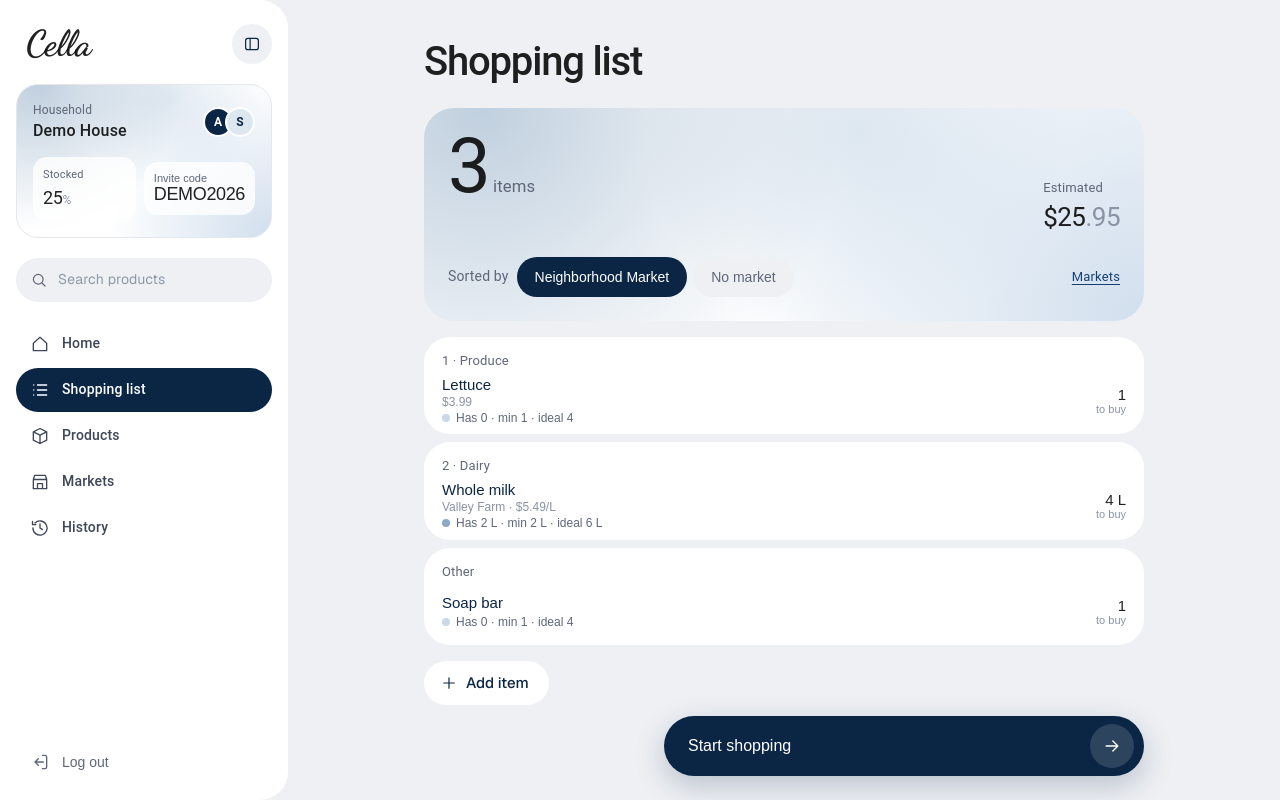
Test case: Shopping list in the store › can shop somewhere without a market, grouped by category
This screenshot has width=1280, height=800.
Step 1. Click the button "Start shopping" → (740, 746), box top-left (664, 716), bottom-right (1144, 776)
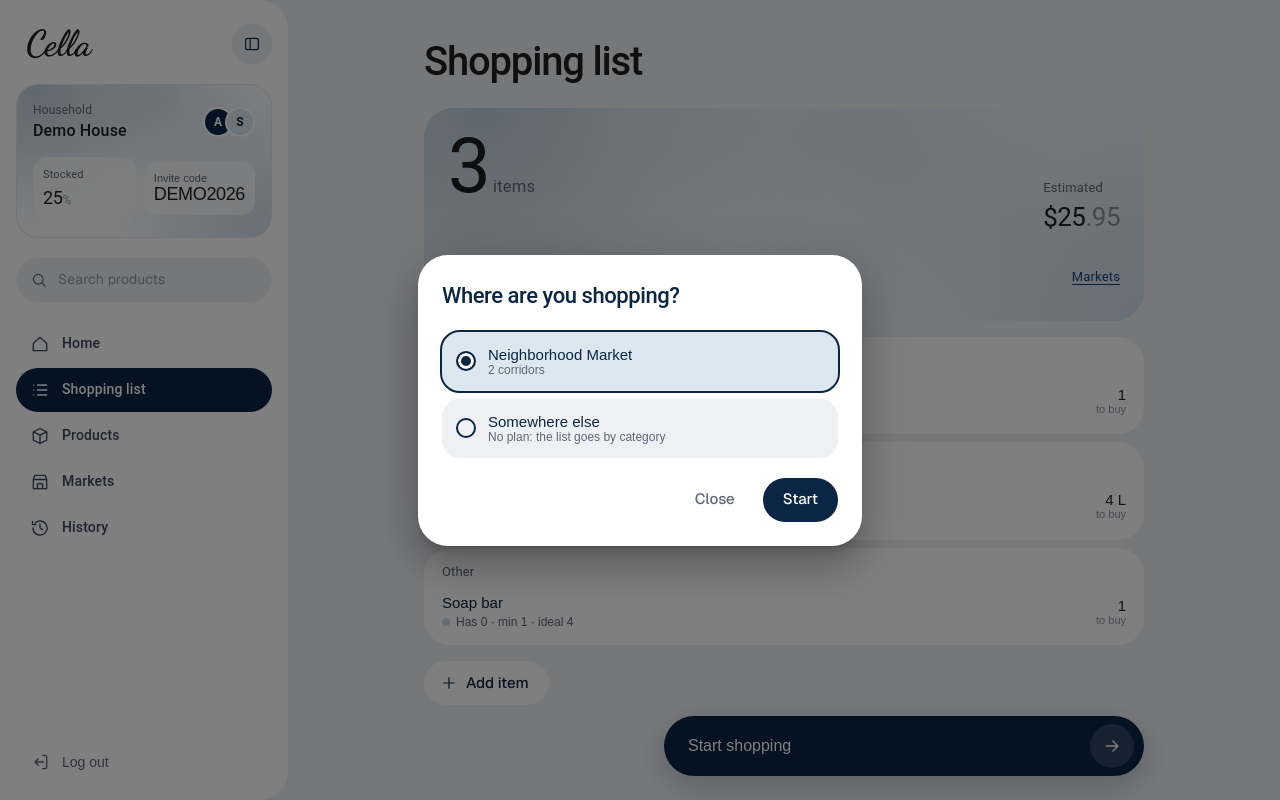
Step 2. Click the radio button labelled "Somewhere else No plan: the list goes by category" → (640, 428), box top-left (442, 398), bottom-right (838, 458)
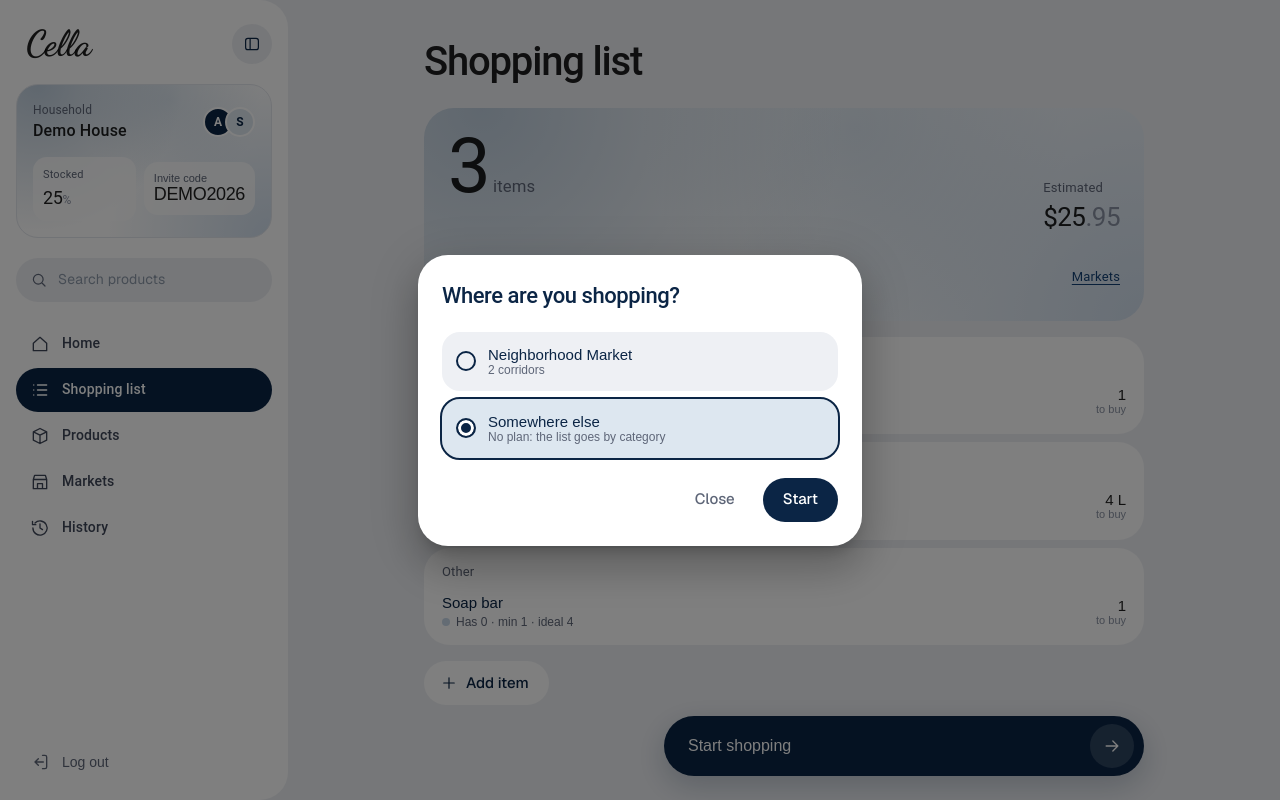
Step 3. Click the button "Start" → (800, 500), box top-left (763, 478), bottom-right (838, 522)
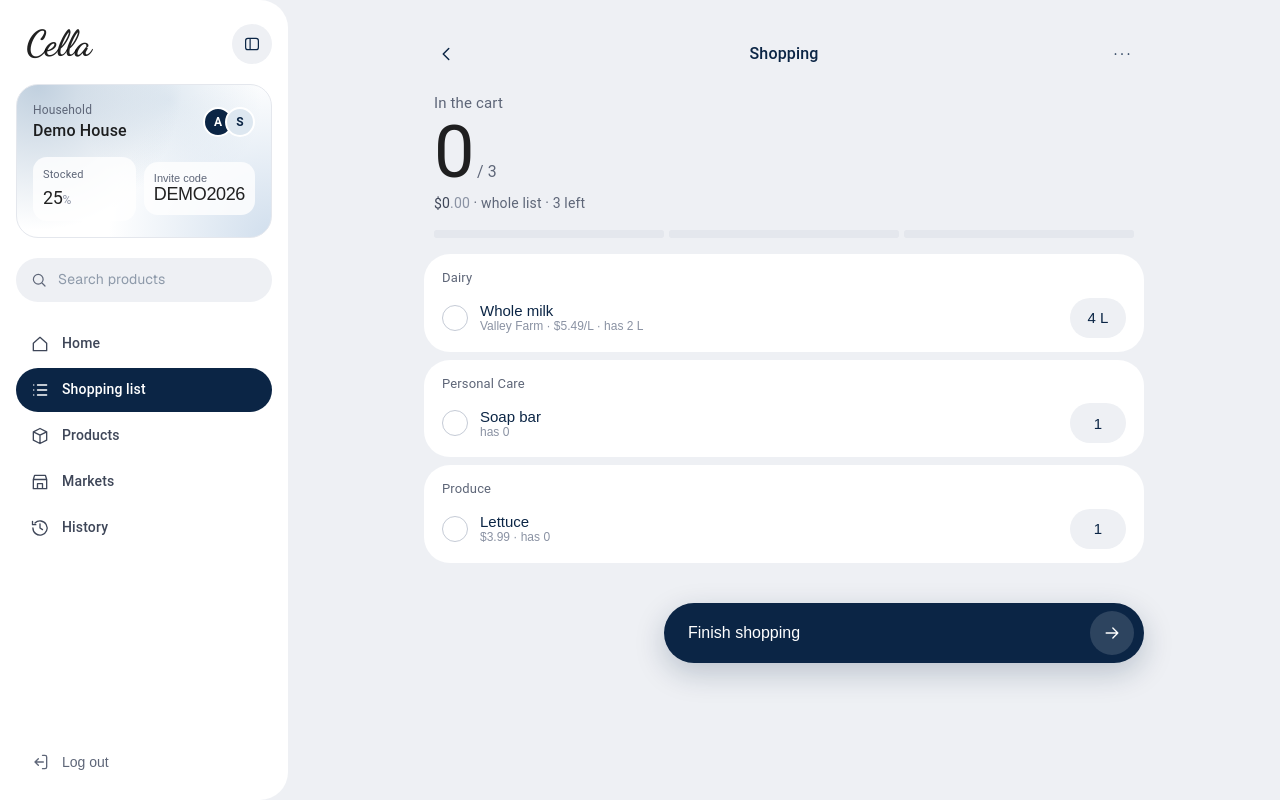
Expected: the heading "Shopping" is shown, top-left (750, 44), bottom-right (818, 63)
Result: the element "Dairy" is shown at top-left (424, 254), bottom-right (1144, 352)
